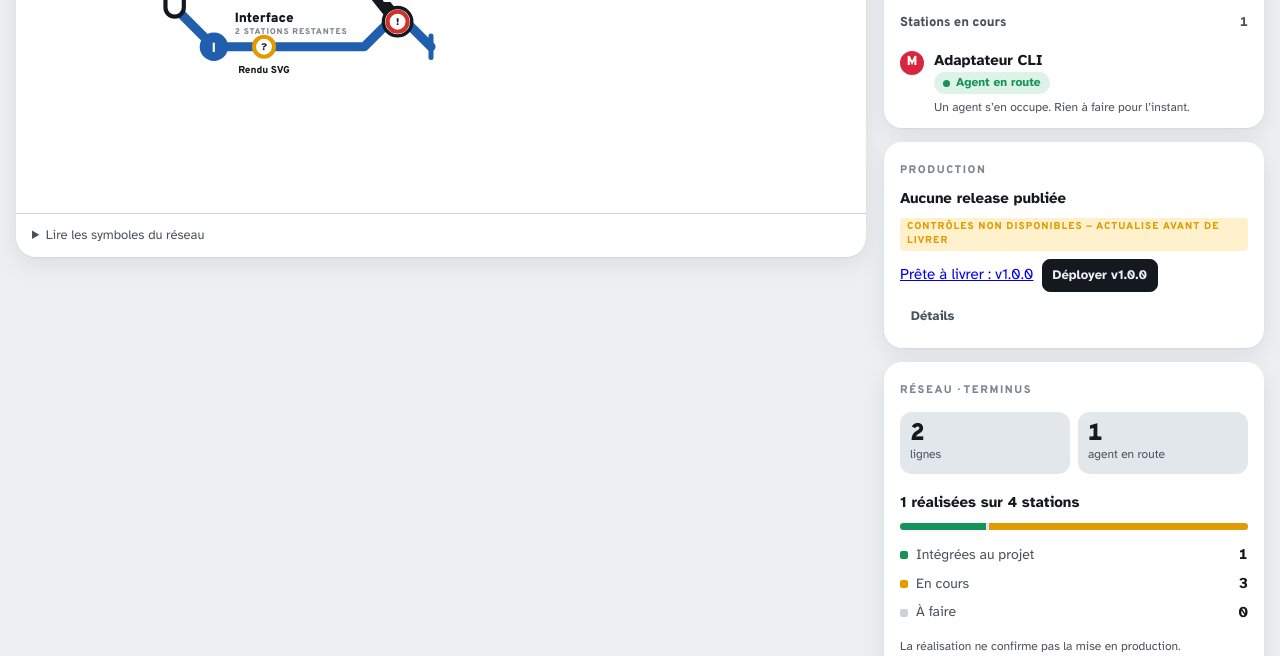
Test case: the cockpit › opens the delivery details in place on the home screen
The image size is (1280, 656).
(page scrolled)
Click the button "Détails". click: x=933, y=316
box: [900,300,966,332]
(page scrolled)
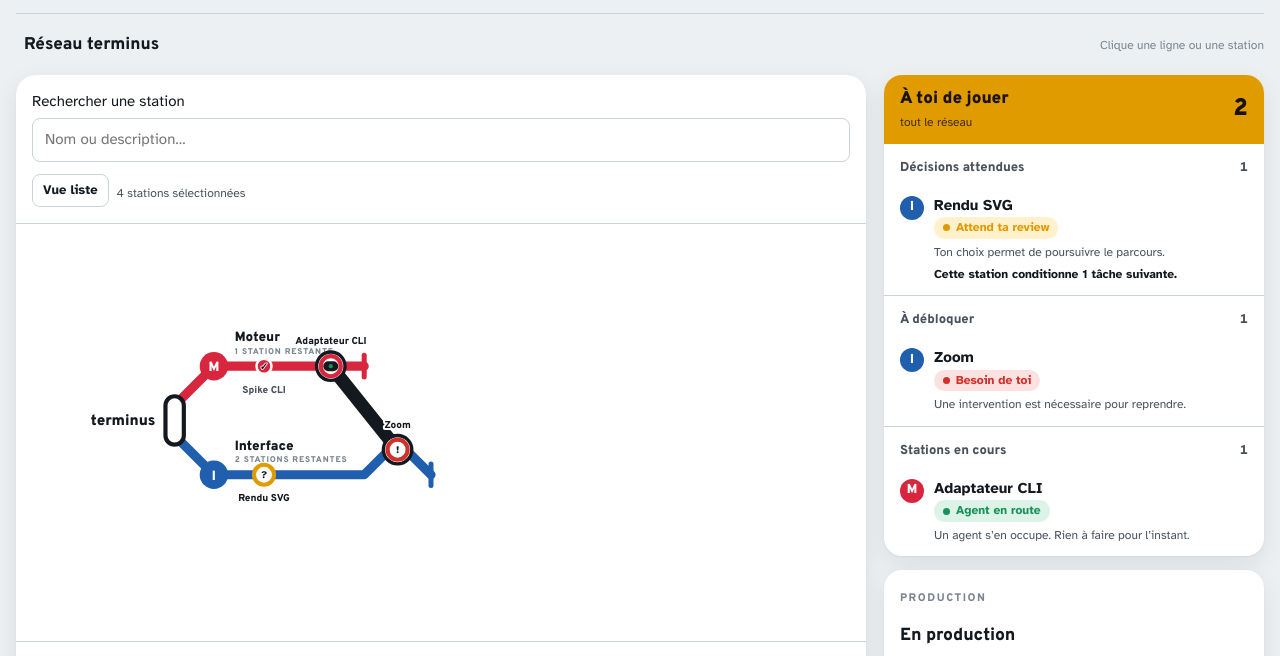
Expected: the picture named "Plan du réseau de terminus" is shown, [16,224,851,642]
Now the heading "En production" is shown, box [900,625,1015,647]
